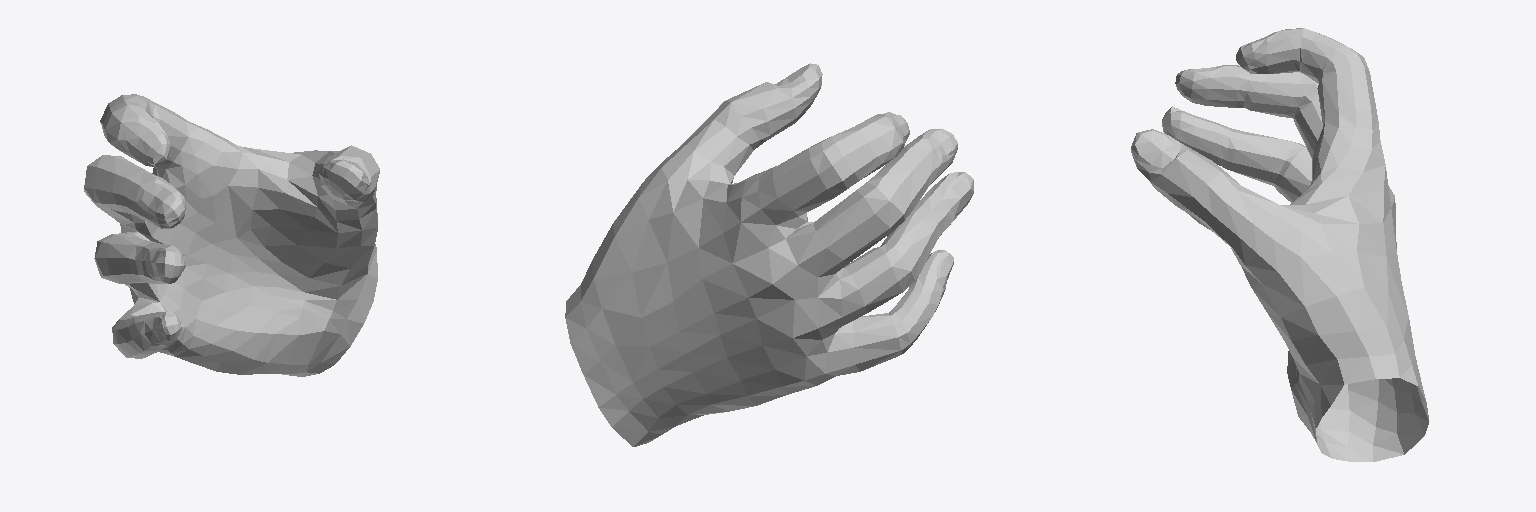
File: rhand_mesh.obj
3 renders of one model, left to right at view 1: azimuth 30°, elevation 25°; view 2: azimuth 150°, elevation 25°; view 3: azimuth 270°, elevation 25°, orthographic.
Bounding box in the file's own units: 0.1312 × 0.139 × 0.1103.